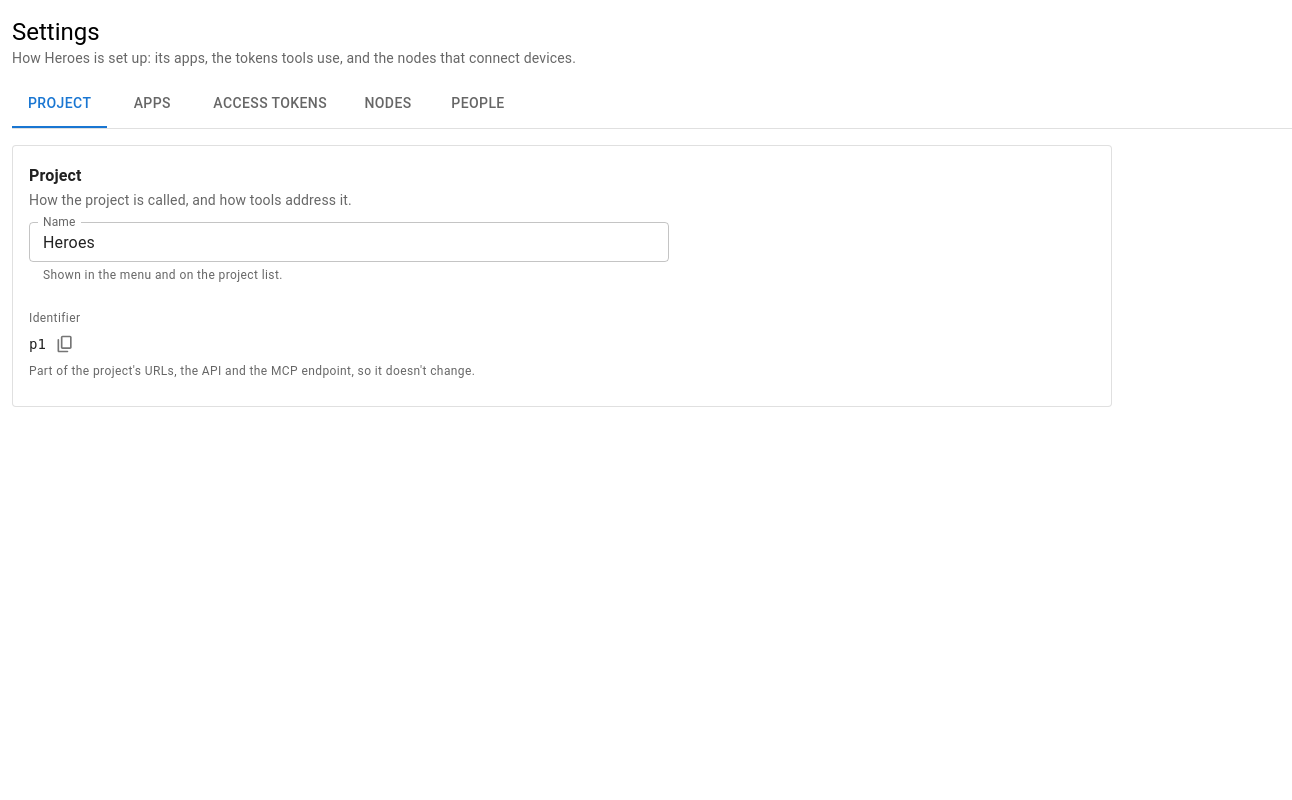
Test: Settings > Project: shows the master's error and keeps the draft when renaming fails
Type "2" into the field labelled "Name". click: (349, 242)
box: x1=29 y1=222 x2=669 y2=262
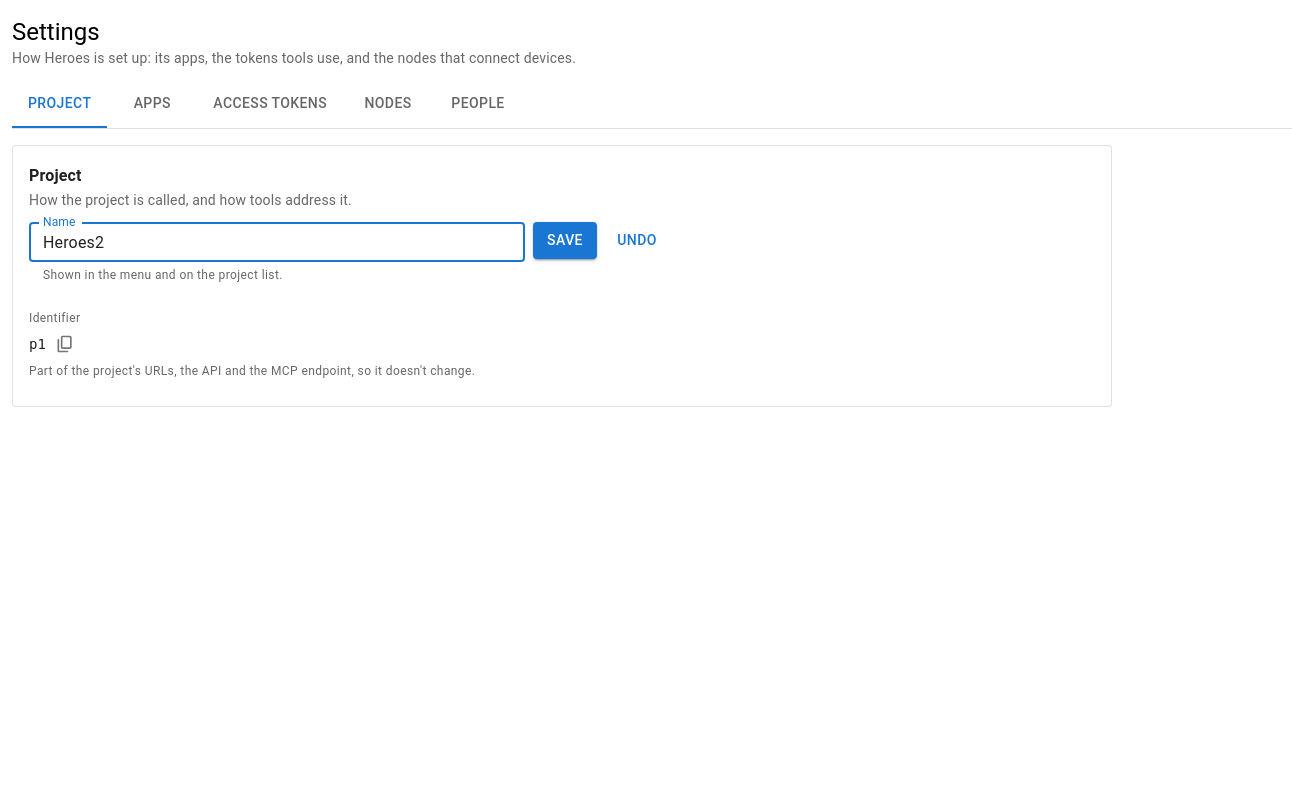
Click the button "Save". click: (565, 240)
box: x1=533 y1=222 x2=597 y2=258
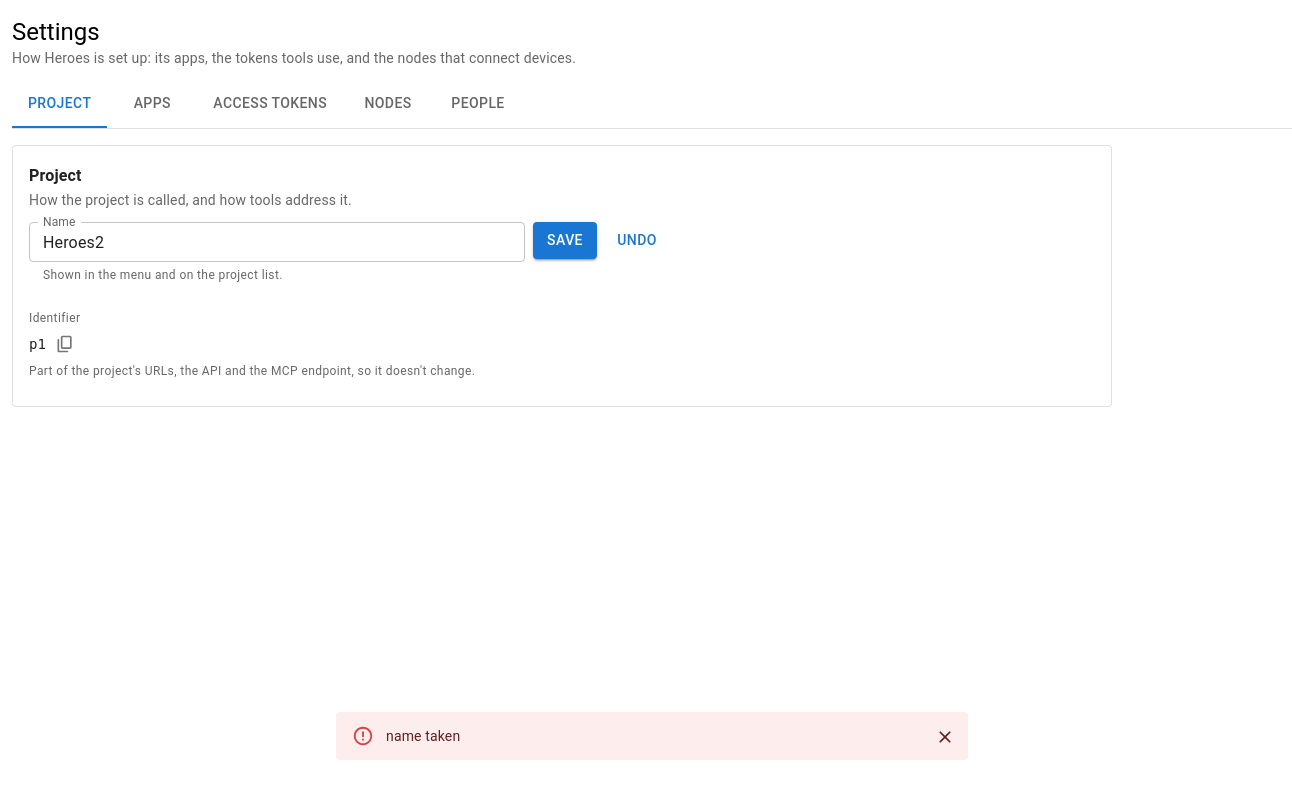
Expected: the field labelled "Name" holds "Heroes2", x1=29 y1=222 x2=525 y2=262
Expected: the message reads "name taken", x1=386 y1=728 x2=460 y2=744
